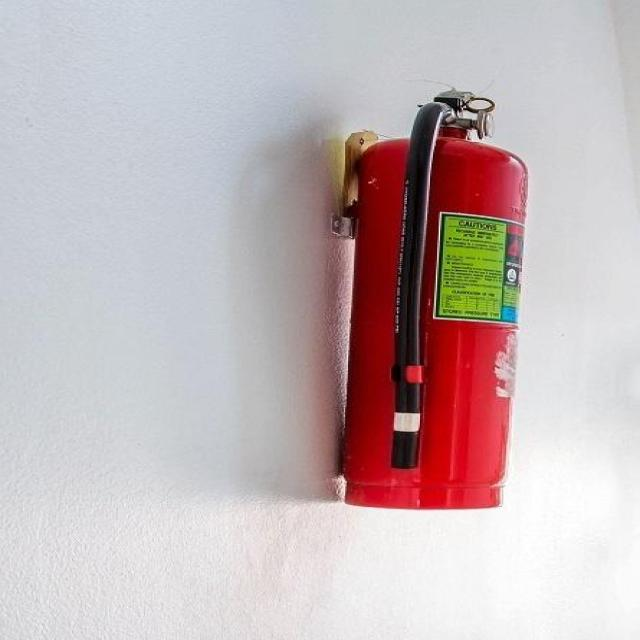fire_extinguisher: (308, 81, 534, 514)
